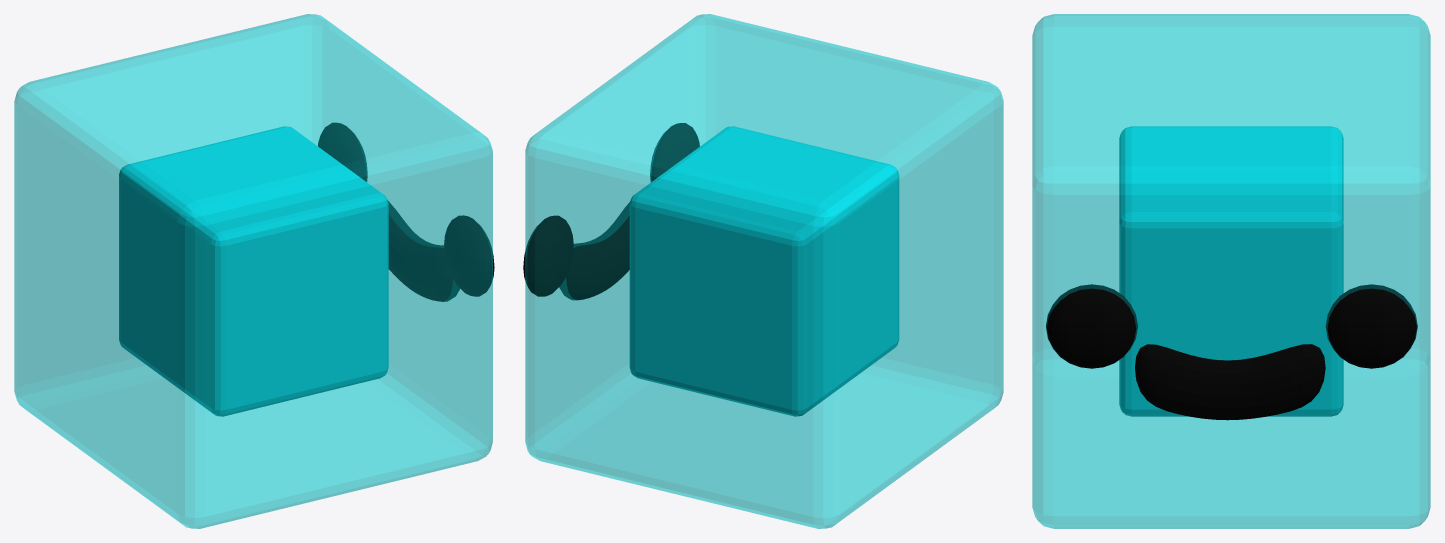
The model's file is Icee.fbx.
The picture shows the model from 3 angles, left to right: view 1: azimuth 30°, elevation 25°; view 2: azimuth 150°, elevation 25°; view 3: azimuth 270°, elevation 25°; orthographic projection. The views are drawn at different scales.
Visible parts, largest first — view 1: Cube, Cube.001, Cube.002, Cube.003, Cube.004; view 2: Cube, Cube.001, Cube.002, Cube.004, Cube.003; view 3: Cube, Cube.001, Cube.002, Cube.003, Cube.004.
Part boxes in pixels (<box>): Cube: <box>14,14,492,528</box>; Cube.001: <box>119,126,388,416</box>; Cube.002: <box>388,201,459,301</box>; Cube.003: <box>444,215,494,296</box>; Cube.004: <box>318,122,367,181</box>; Cube: <box>525,14,1003,528</box>; Cube.001: <box>629,126,899,416</box>; Cube.002: <box>559,202,629,299</box>; Cube.004: <box>523,215,573,296</box>; Cube.003: <box>650,123,699,181</box>; Cube: <box>1032,14,1430,528</box>; Cube.001: <box>1119,126,1343,416</box>; Cube.002: <box>1135,344,1325,420</box>; Cube.003: <box>1046,284,1137,368</box>; Cube.004: <box>1325,284,1417,368</box>.
Bounding box in the file's own units: 493 × 469 × 469.
